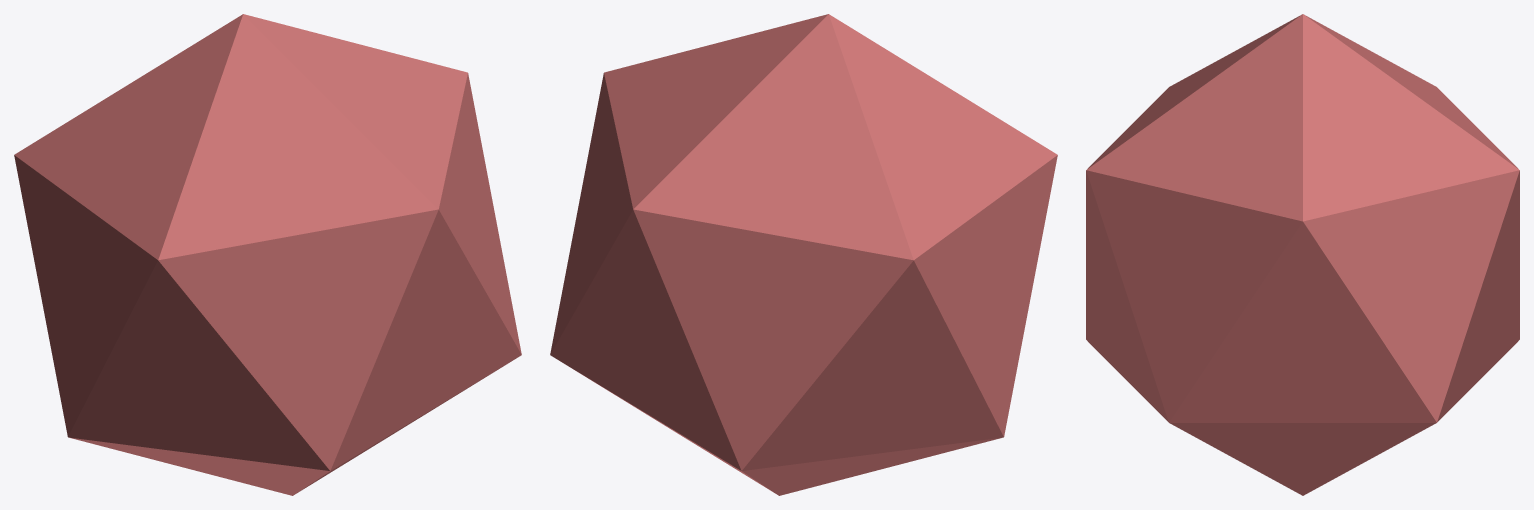
Rendered from Platonico.fbx.
The picture shows the model from 3 angles, left to right: view 1: azimuth 30°, elevation 25°; view 2: azimuth 150°, elevation 25°; view 3: azimuth 270°, elevation 25°; orthographic projection. The views are drawn at different scales.
Parts seen in each view (by area): view 1: Platónico; view 2: Platónico; view 3: Platónico.
Part boxes in pixels (bbox=[...]): Platónico: bbox=[14, 14, 521, 495]; Platónico: bbox=[550, 14, 1057, 495]; Platónico: bbox=[1086, 14, 1519, 495].
Size of the model in its own units: 169 by 199 by 170.
